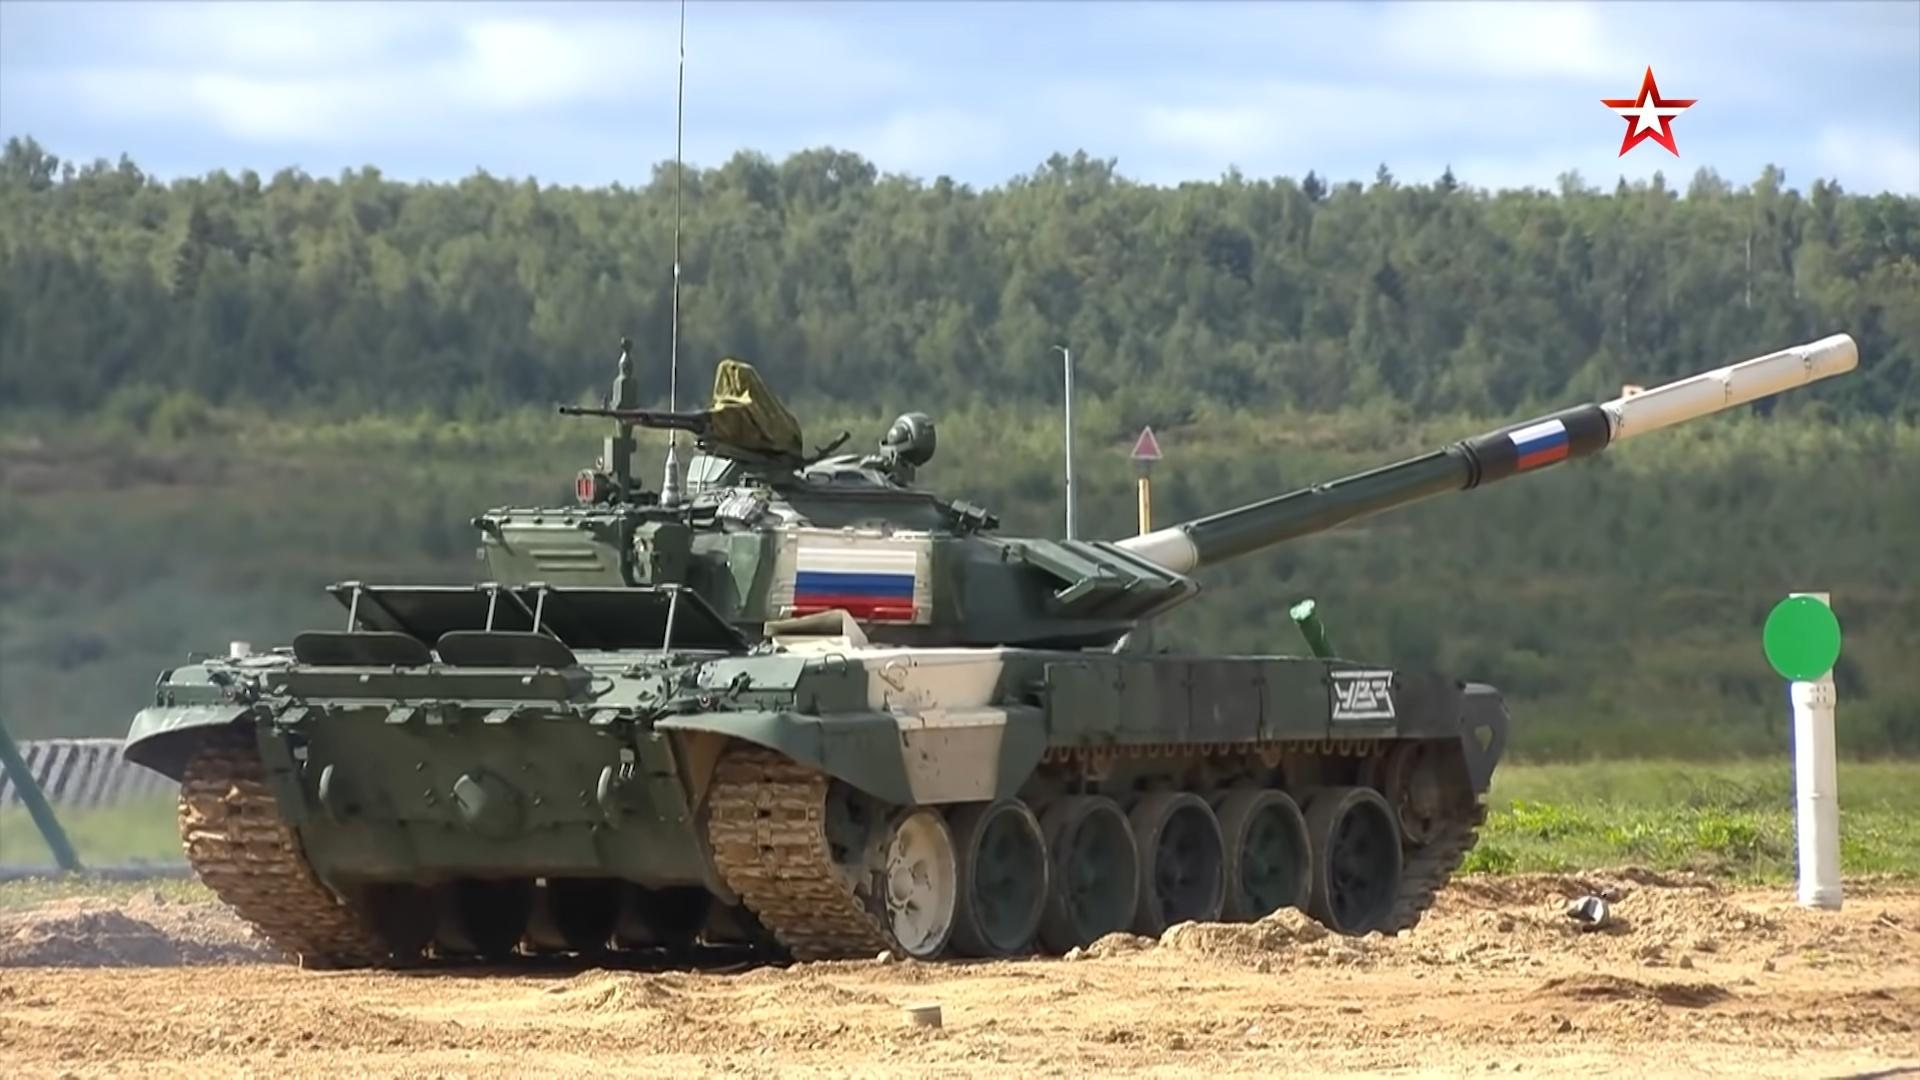tank: (117, 332, 1859, 965)
